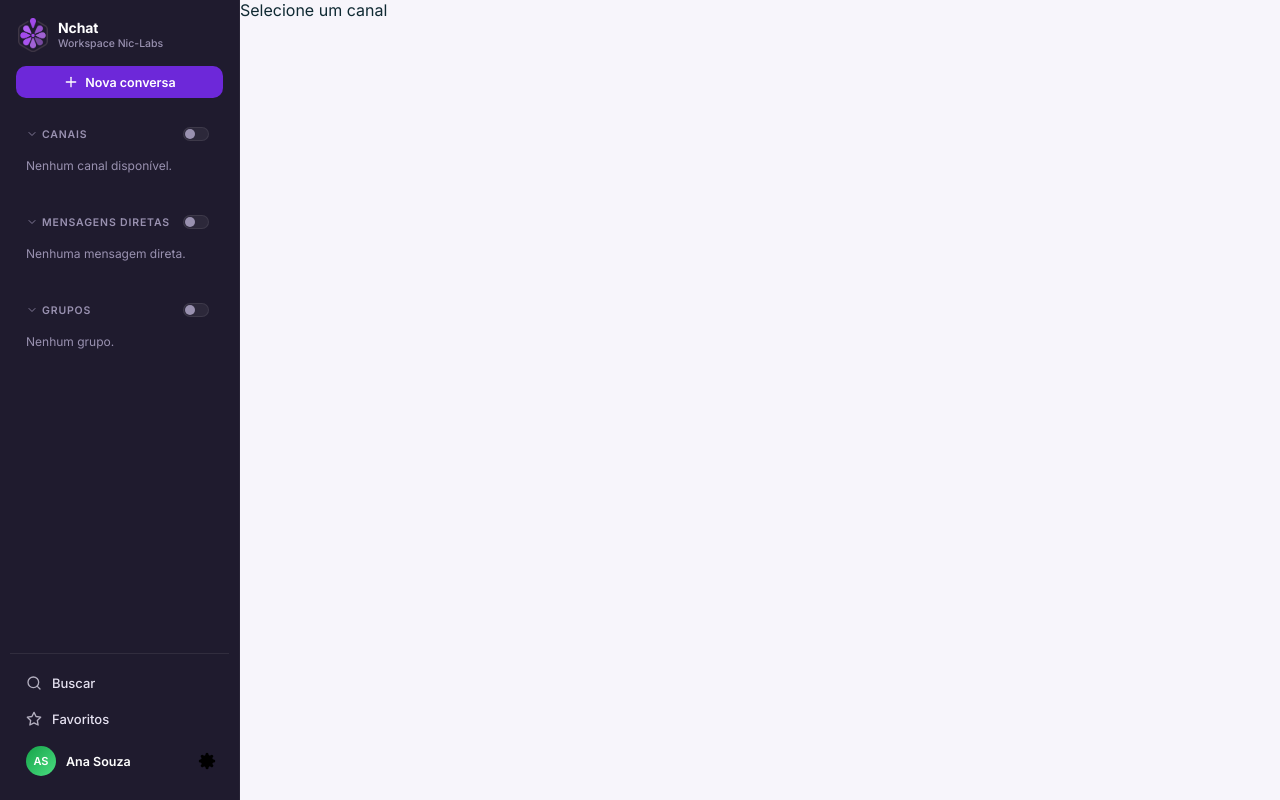
Test: ChatSidebar — DMs › shows the resolved participant name after the post-creation refresh
The width and height of the screenshot is (1280, 800).
Click the button "Nova conversa": (120, 82) top-left (16, 66), bottom-right (223, 98)
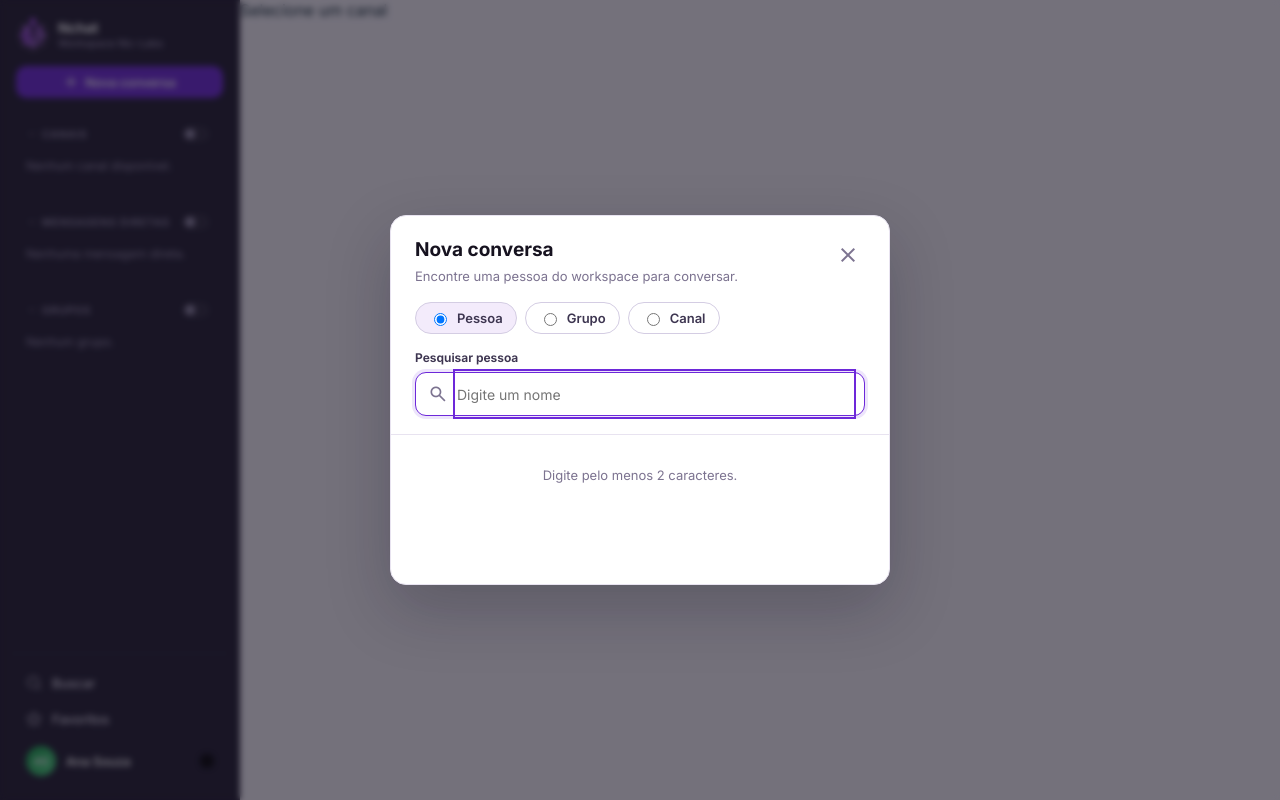
In the search field: (654, 394) top-left (457, 373), bottom-right (852, 415), type "ju"
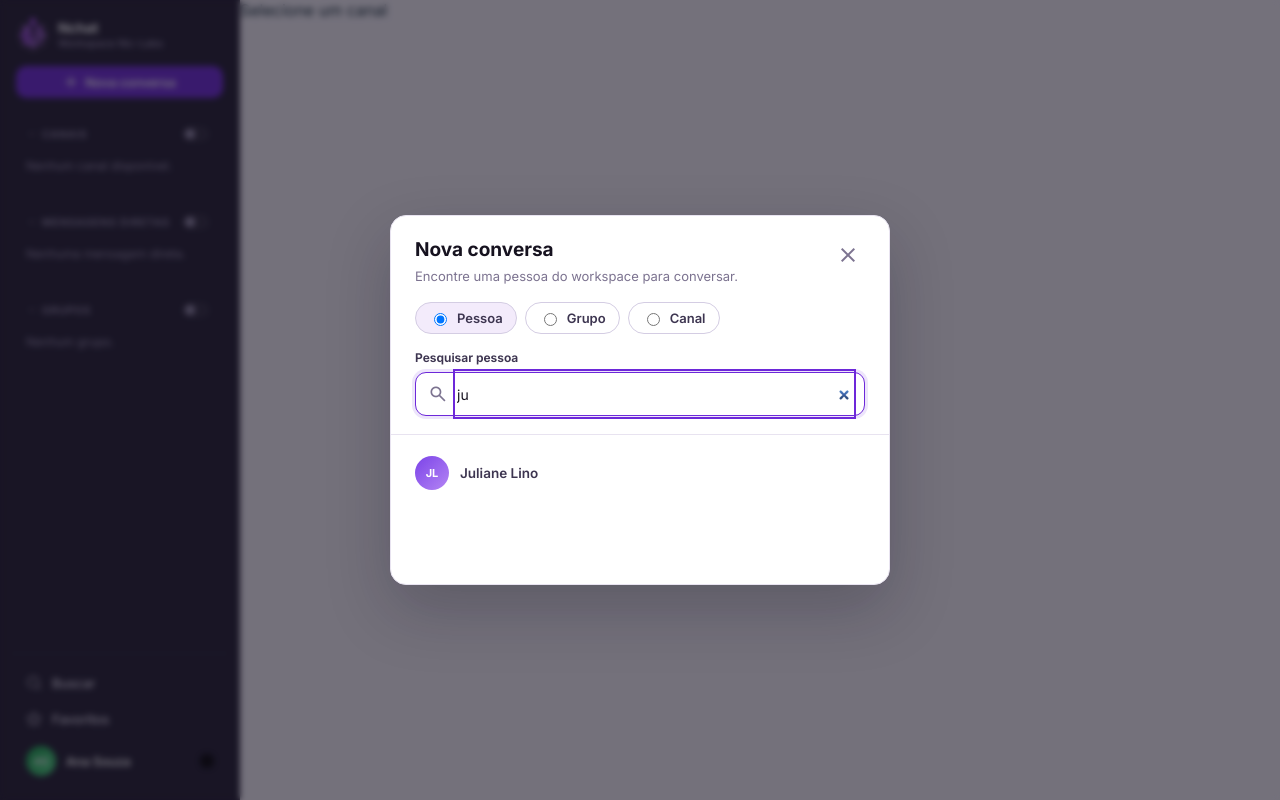
Click the button "JL Juliane Lino": (432, 473) top-left (405, 447), bottom-right (875, 499)
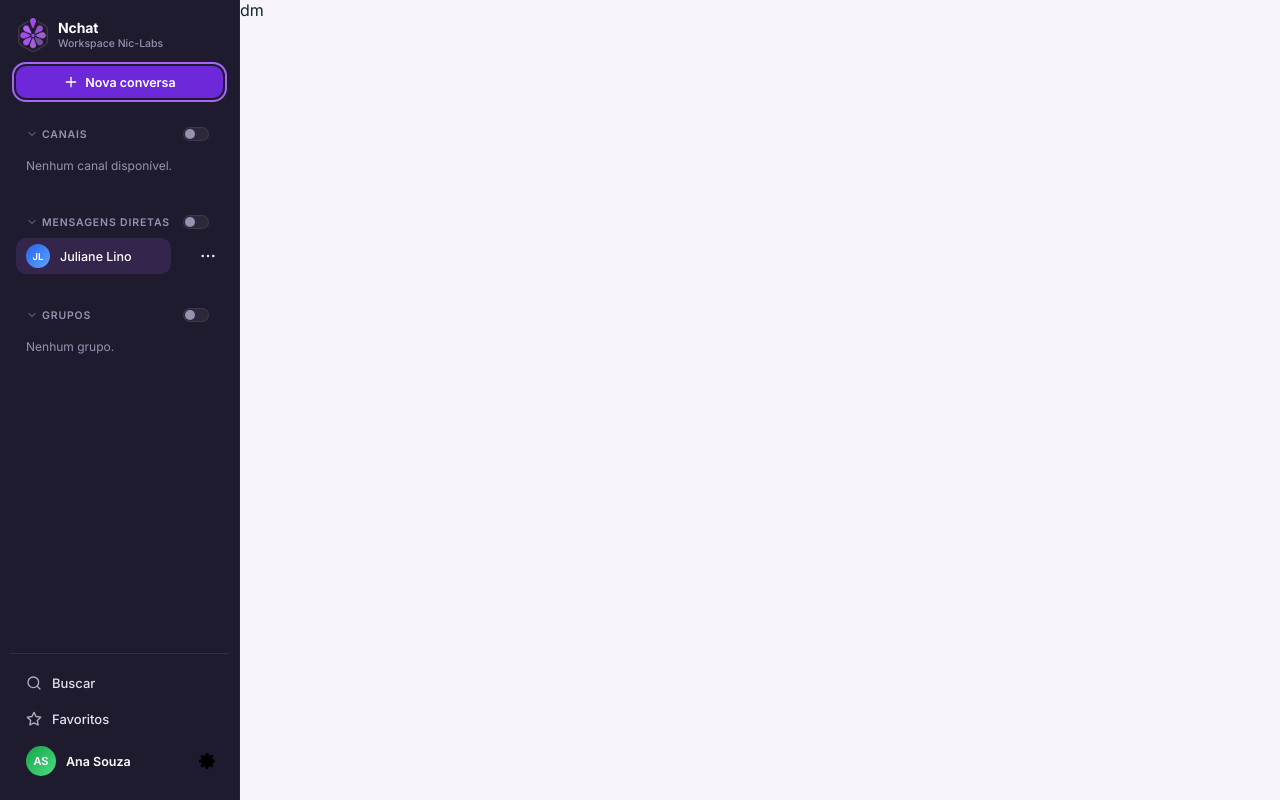
Expected: the option with aria-label "mensagem direta com juliane lino" is shown, top-left (16, 238), bottom-right (171, 274)
Expected: the text "mensagem direta" is gone
